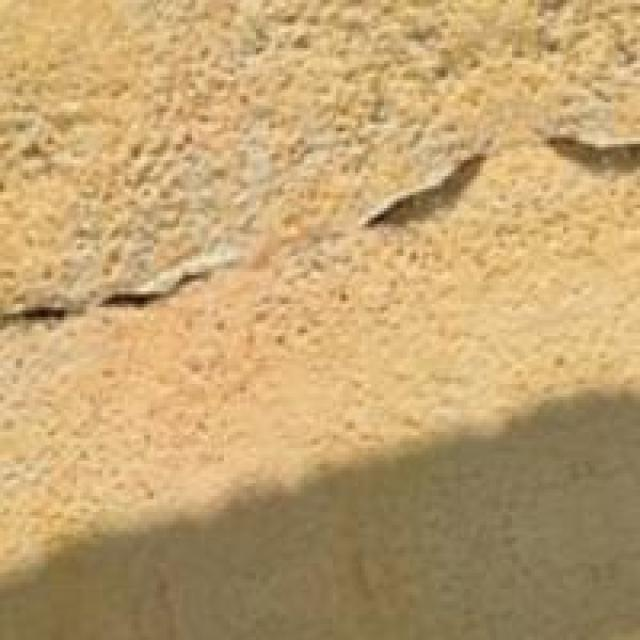Crack: (0, 76, 637, 330)
